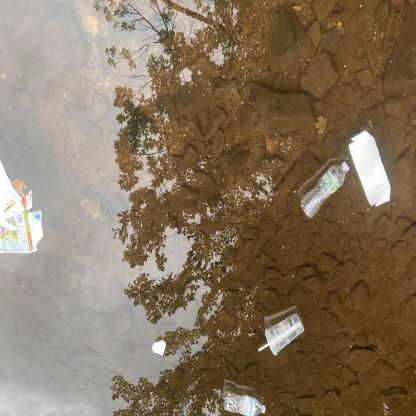Plastic: (298, 157, 353, 221), (252, 314, 307, 359), (220, 388, 269, 416)
Trash: (344, 128, 395, 210), (151, 339, 170, 358)
